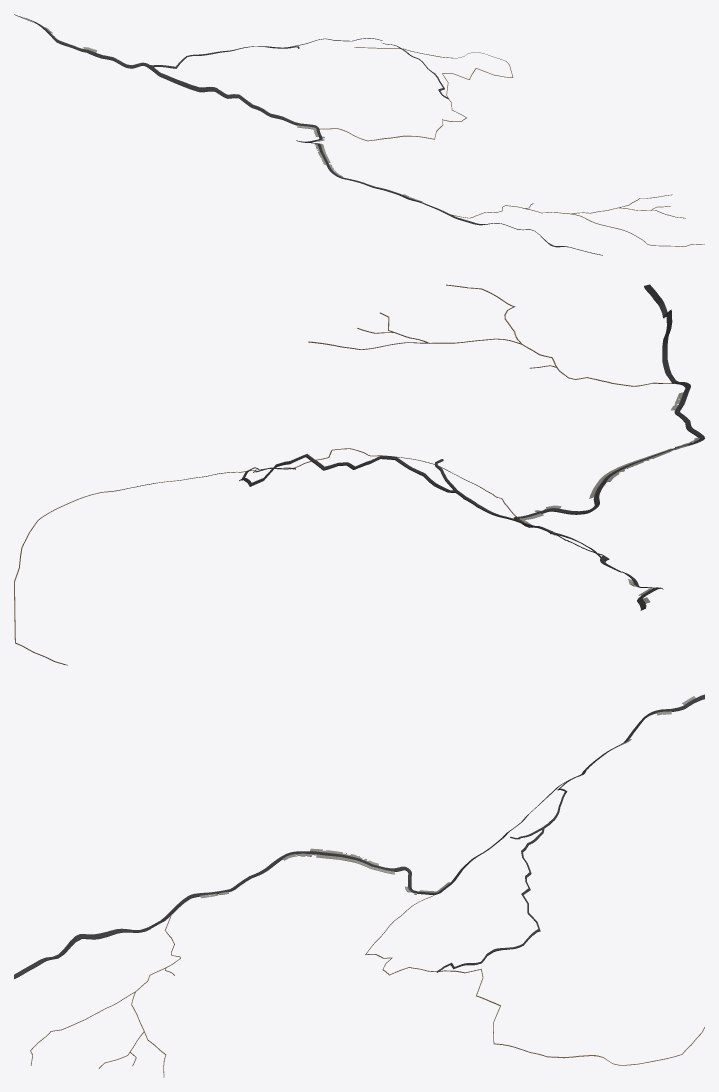
3 renders of one model, top to bottom at view 1: azimuth 30°, elevation 25°; view 2: azimuth 150°, elevation 25°; view 3: azimuth 270°, elevation 25°, orthographic. The views are drawn at different scales.
Bounding box in the file's own units: 983 × 266 × 1168.
